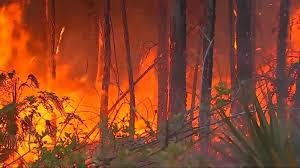fire: (0, 19, 165, 153)
